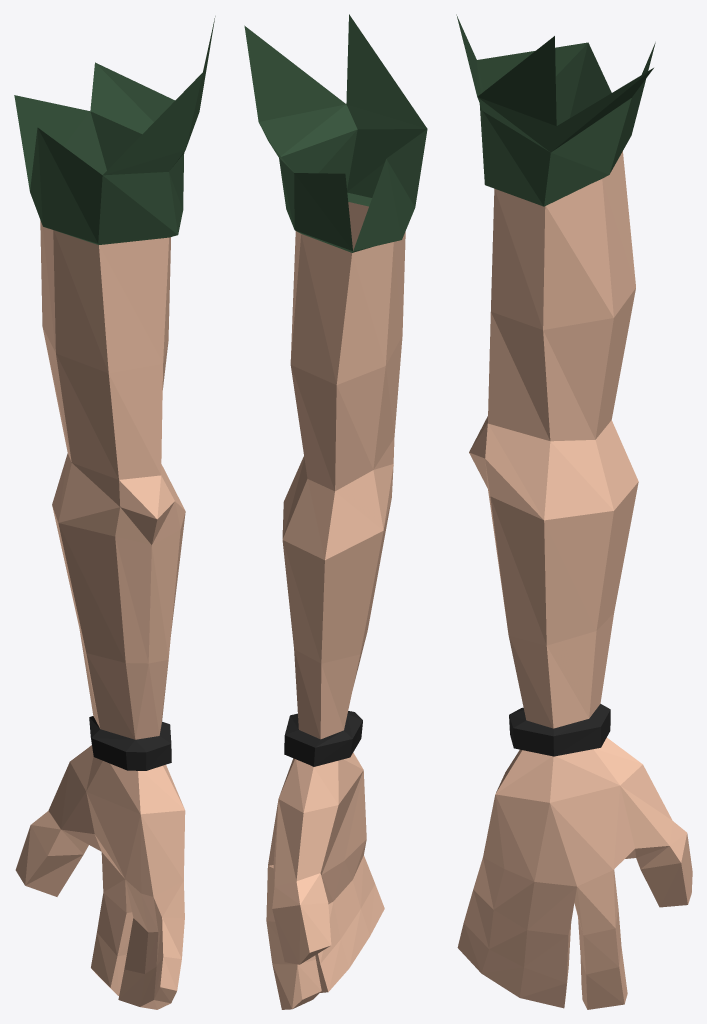
File: ArmR.obj
3 renders of one model, left to right at view 1: azimuth 30°, elevation 25°; view 2: azimuth 150°, elevation 25°; view 3: azimuth 270°, elevation 25°, orthographic. The views are drawn at different scales.
Bounding box in the file's own units: 0.1602 × 0.892 × 0.1892.
Materials: 1 (1 with a texture image).
